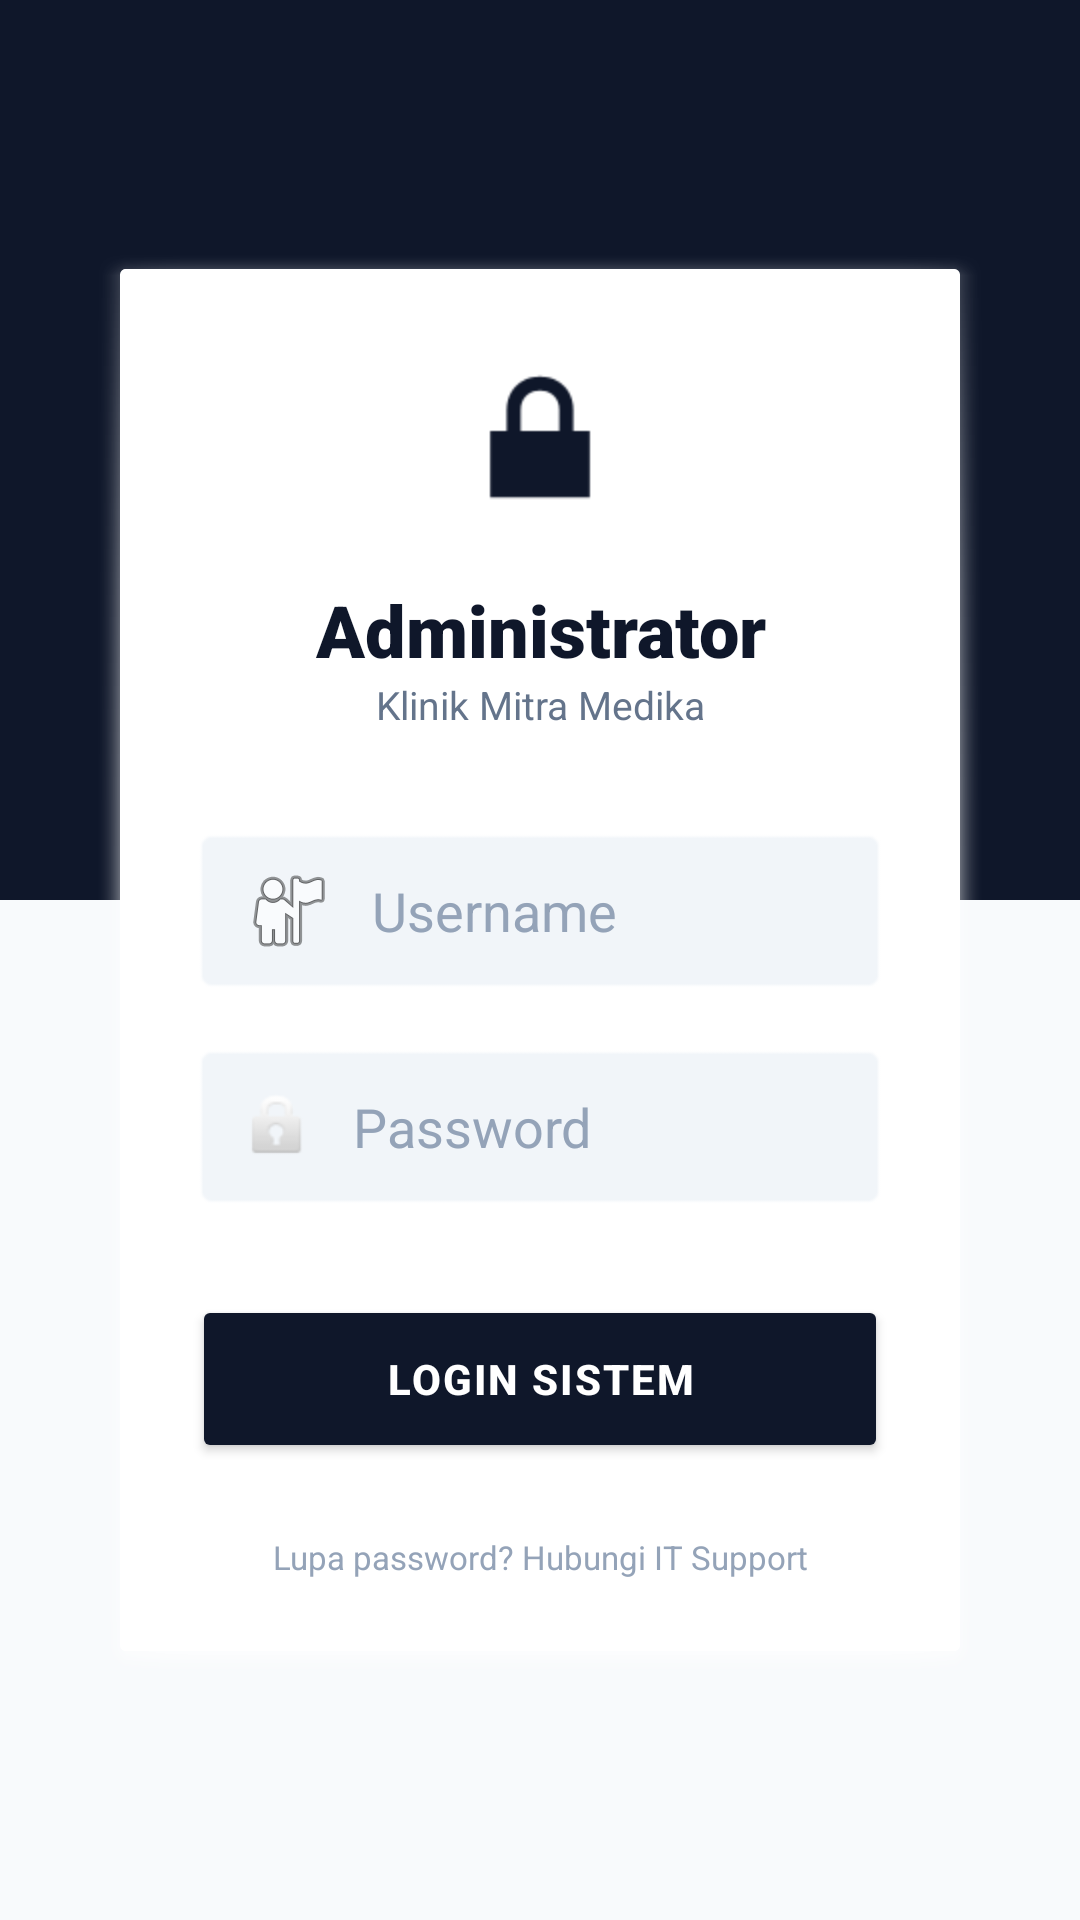

Locate icon controls on the screen. Image size 1080 × 1920, boxes as [left=x1, top=y1, right=x2, bottom=y2].
lock: [left=489, top=375, right=591, bottom=499]
